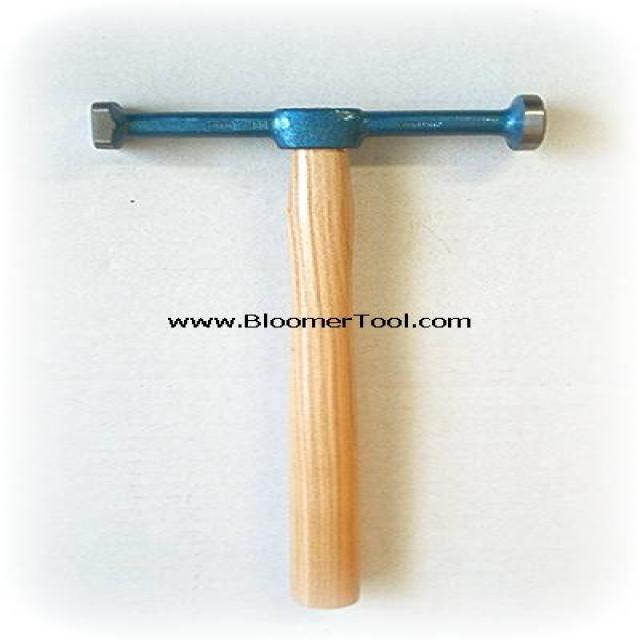hammer: (46, 86, 564, 618)
